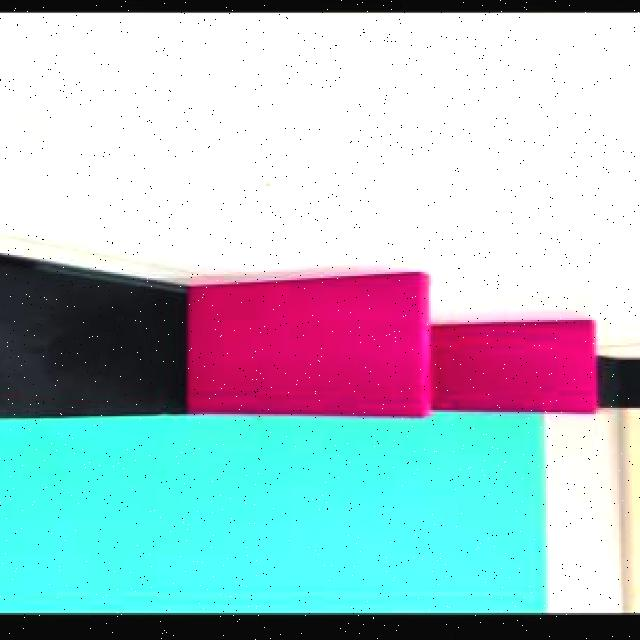xparking: (190, 286, 423, 414), (431, 326, 594, 412)
